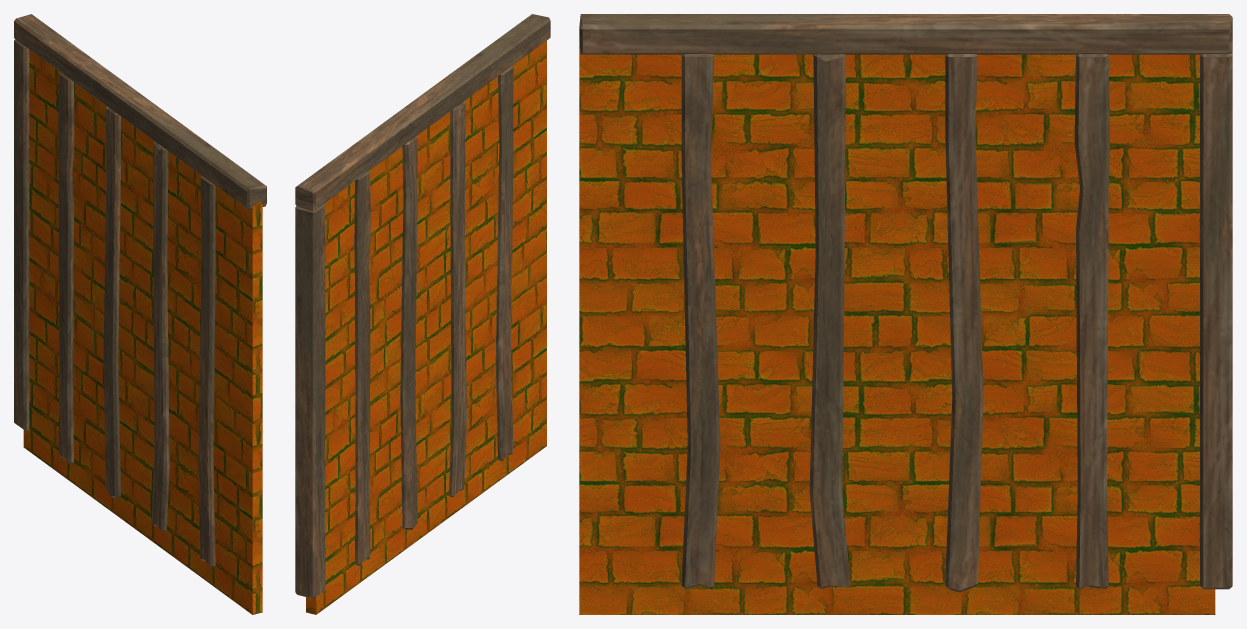
File: SM_wall_11.fbx
The picture shows the model from 3 angles, left to right: view 1: azimuth 30°, elevation 25°; view 2: azimuth 150°, elevation 25°; view 3: azimuth 270°, elevation 25°; orthographic projection. The views are drawn at different scales.
Parts seen in each view (by area): view 1: SM_wall_11_LOD0; view 2: SM_wall_11_LOD0; view 3: SM_wall_11_LOD0.
Boxes of the visible parts, bbox=[...] form: SM_wall_11_LOD0: bbox=[14, 14, 266, 614]; SM_wall_11_LOD0: bbox=[295, 14, 550, 614]; SM_wall_11_LOD0: bbox=[579, 14, 1232, 614].
Bounding box in the file's own units: 20 × 400 × 400.
Materials: 2 (2 with a texture image).
